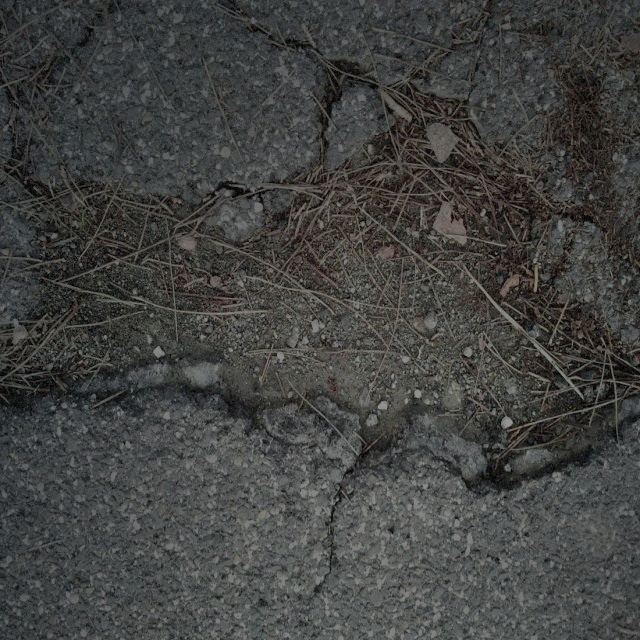pothole: (14, 74, 635, 496)
